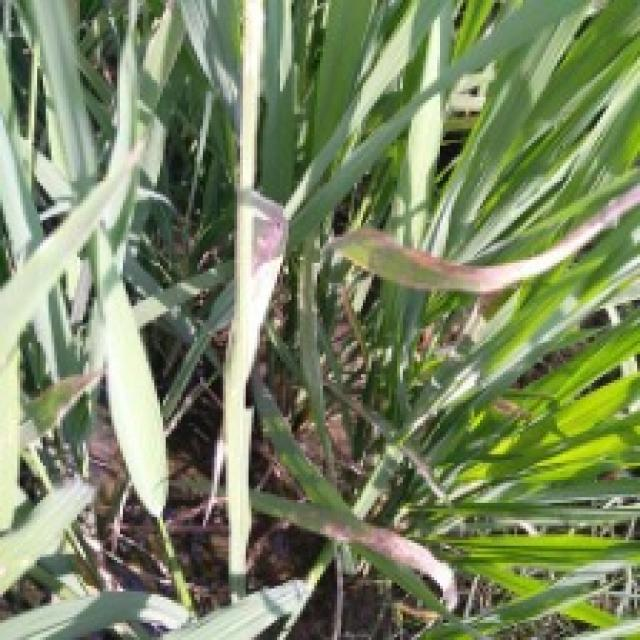Rice___Rice_Blast: (333, 178, 637, 298), (249, 489, 464, 616)
